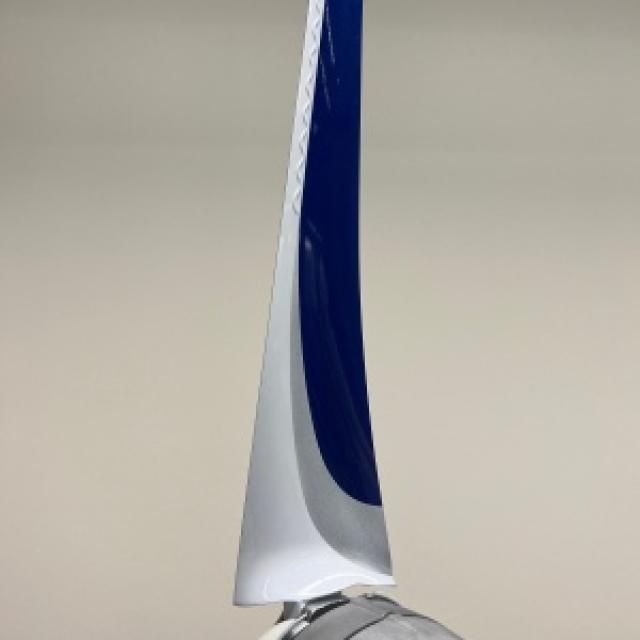healthy: (235, 0, 459, 638)
